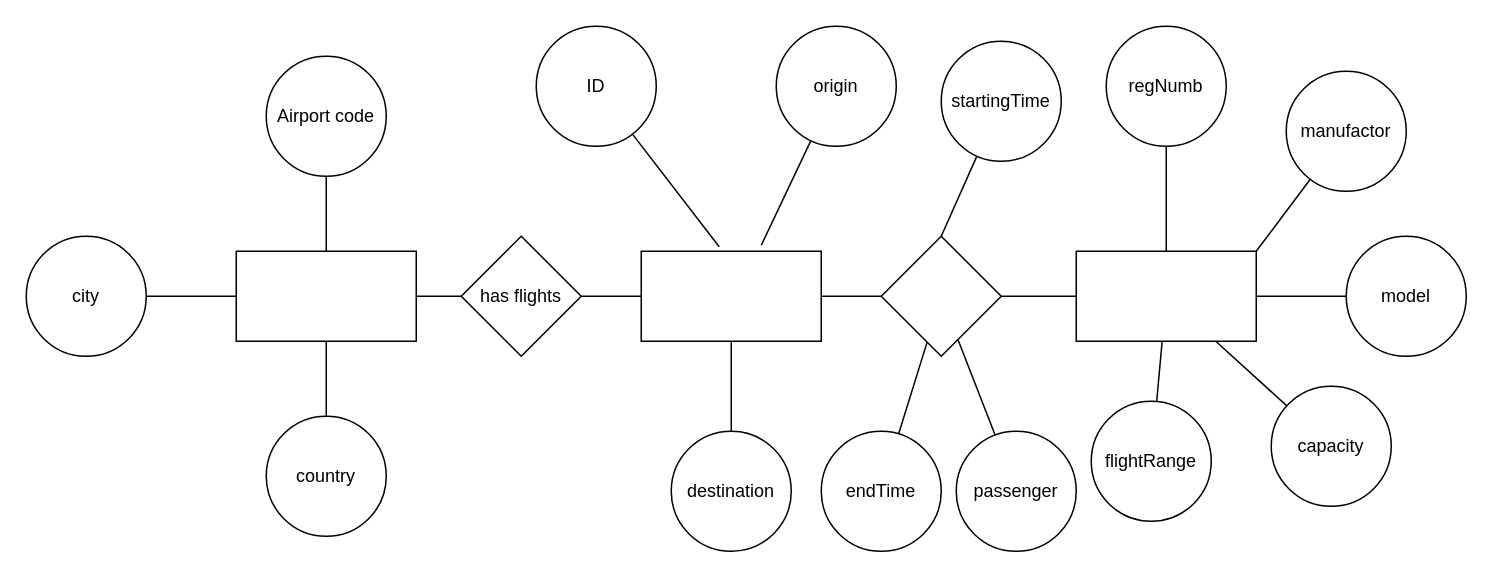
Image size: 1493x578. Some labels were removed from this diagram. Here are the shapes that lost their labels. From the top down, the centre of each, then its label:
At pixel 325 295: "Airports".
At pixel 730 295: "Flights".
At pixel 940 295: "storage".
At pixel 1165 295: "Planes".
